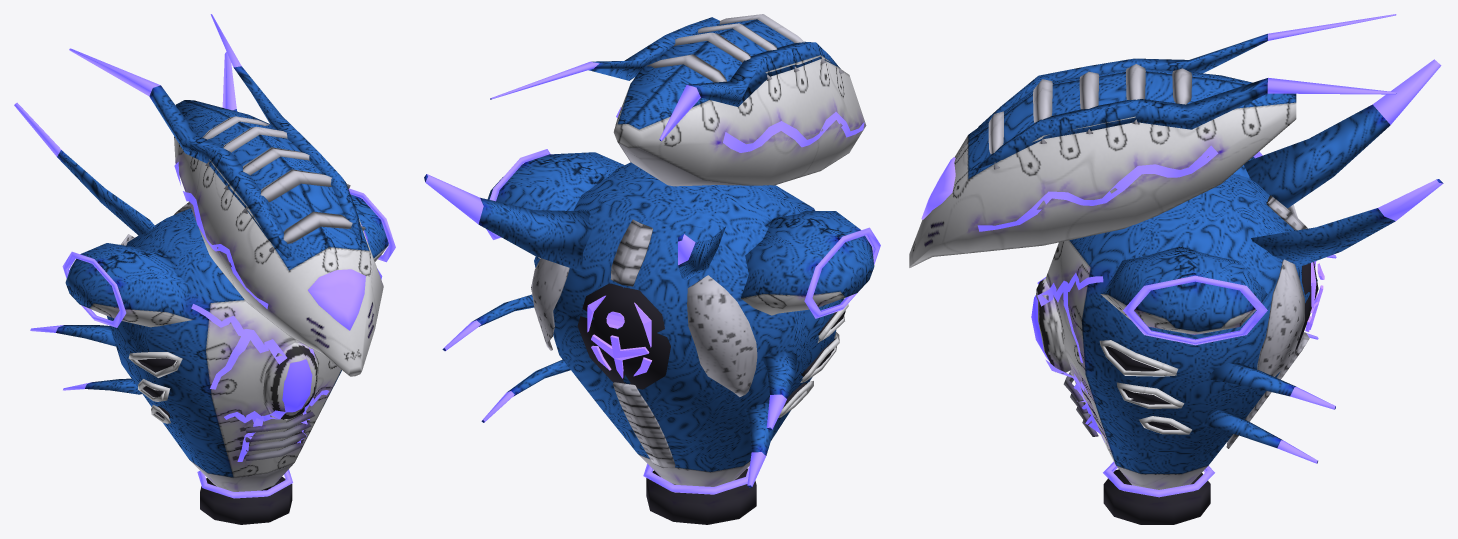
The model's file is LightenedTorsoZ.glb.
The picture shows the model from 3 angles, left to right: view 1: azimuth 30°, elevation 25°; view 2: azimuth 150°, elevation 25°; view 3: azimuth 270°, elevation 25°; orthographic projection. The views are drawn at different scales.
Visible parts, largest first — view 1: LightenedTorsoZ_Body, LightenedTorsoZ_Head; view 2: LightenedTorsoZ_Body, LightenedTorsoZ_Head; view 3: LightenedTorsoZ_Body, LightenedTorsoZ_Head.
Part boxes in pixels (<box>): LightenedTorsoZ_Body: <box>14,52,395,524</box>; LightenedTorsoZ_Head: <box>69,14,383,376</box>; LightenedTorsoZ_Body: <box>424,149,880,524</box>; LightenedTorsoZ_Head: <box>490,14,866,186</box>; LightenedTorsoZ_Body: <box>1031,59,1443,524</box>; LightenedTorsoZ_Head: <box>909,14,1396,267</box>.
Size of the model in its own units: 10.9 by 13.92 by 14.98.
10 materials, 5 textured.
